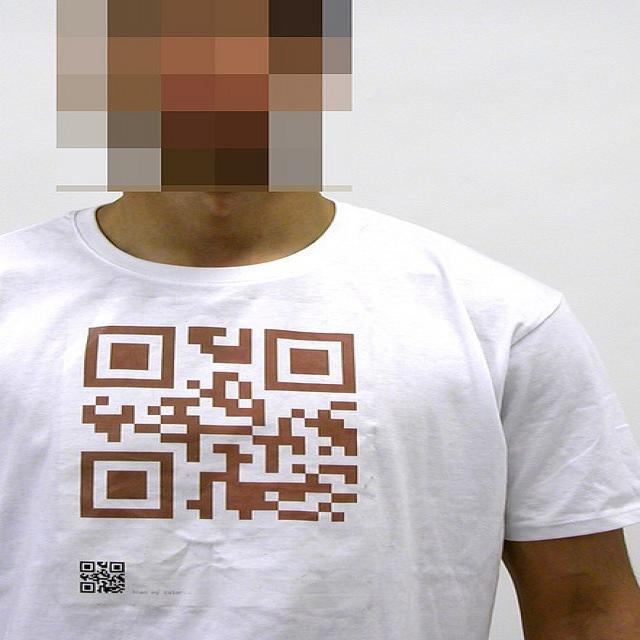qr_code: (80, 325, 358, 521), (80, 561, 124, 593)
